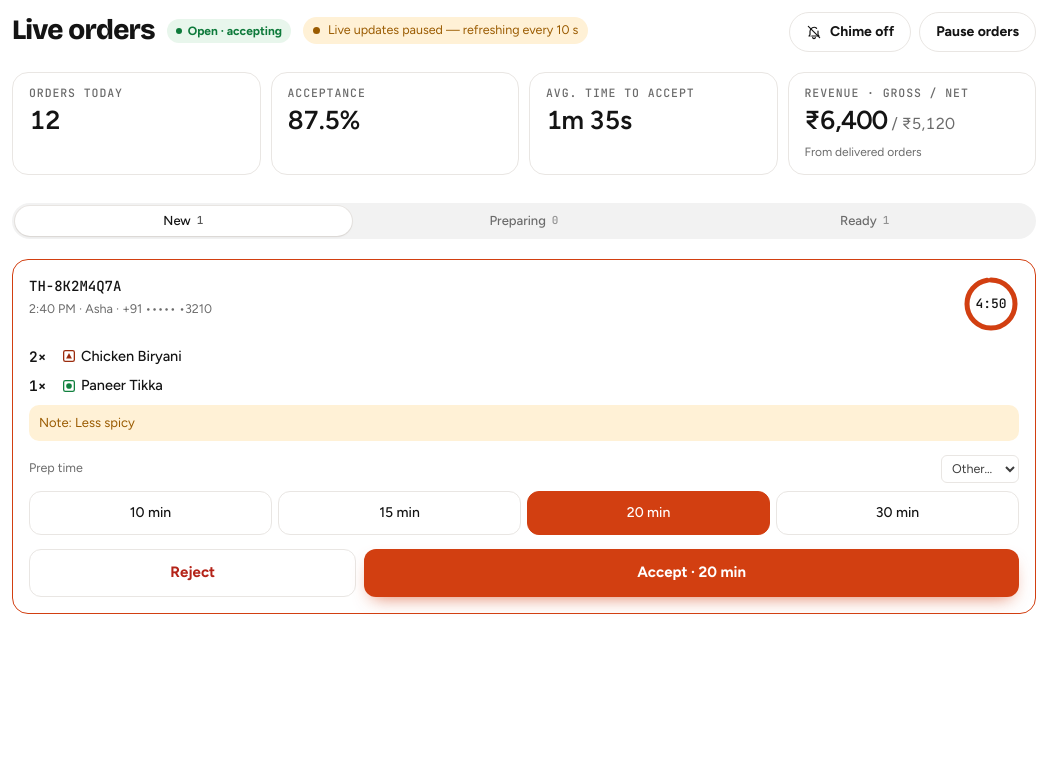
Test: OrdersBoard (board 20) › phones: the kanban becomes segmented tabs
Expected: the list item with aria-label "New order" is shown, [12, 258, 1036, 614]
Click the tab "Ready 1" at (865, 220), box [696, 206, 1033, 236]
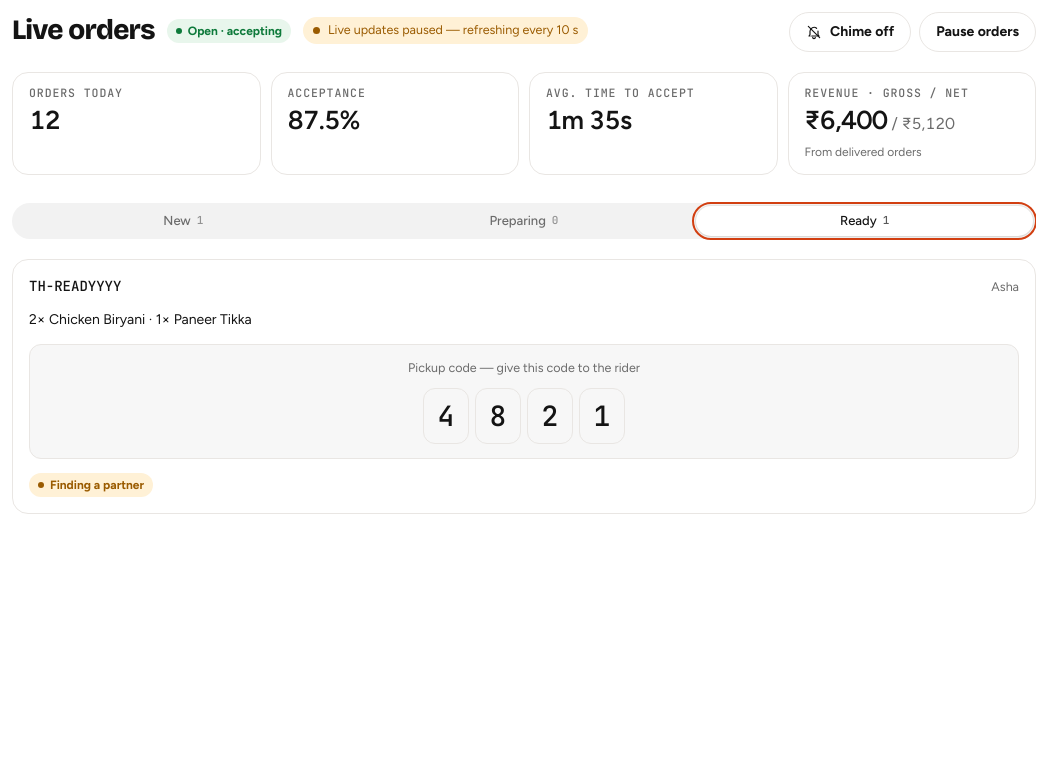
Expected: the list item with aria-label "Order TH-READYYYY" is shown, [12, 258, 1036, 514]
